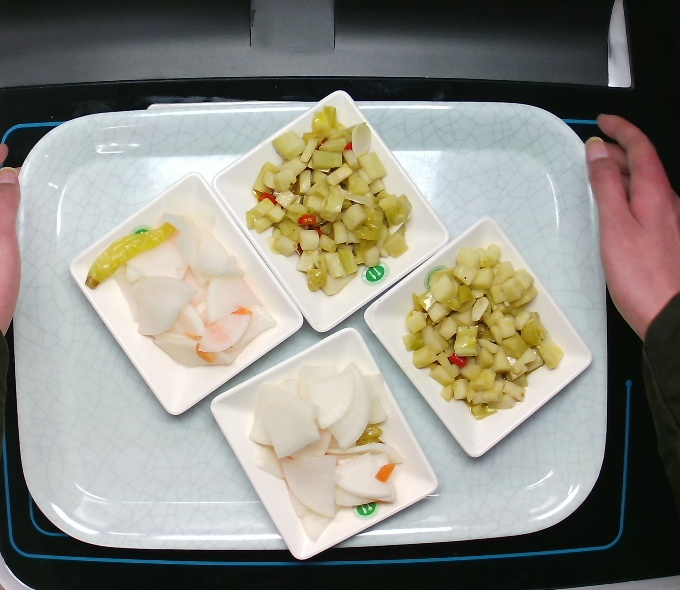wcq-LuLuoBo: (78, 210, 283, 380), (247, 355, 413, 546)
wcq-TangCuOu: (254, 106, 422, 303), (403, 241, 565, 431)
